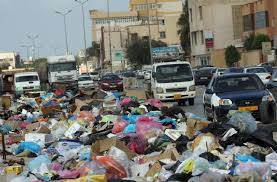garbage: (11, 97, 201, 182), (204, 117, 270, 182)
